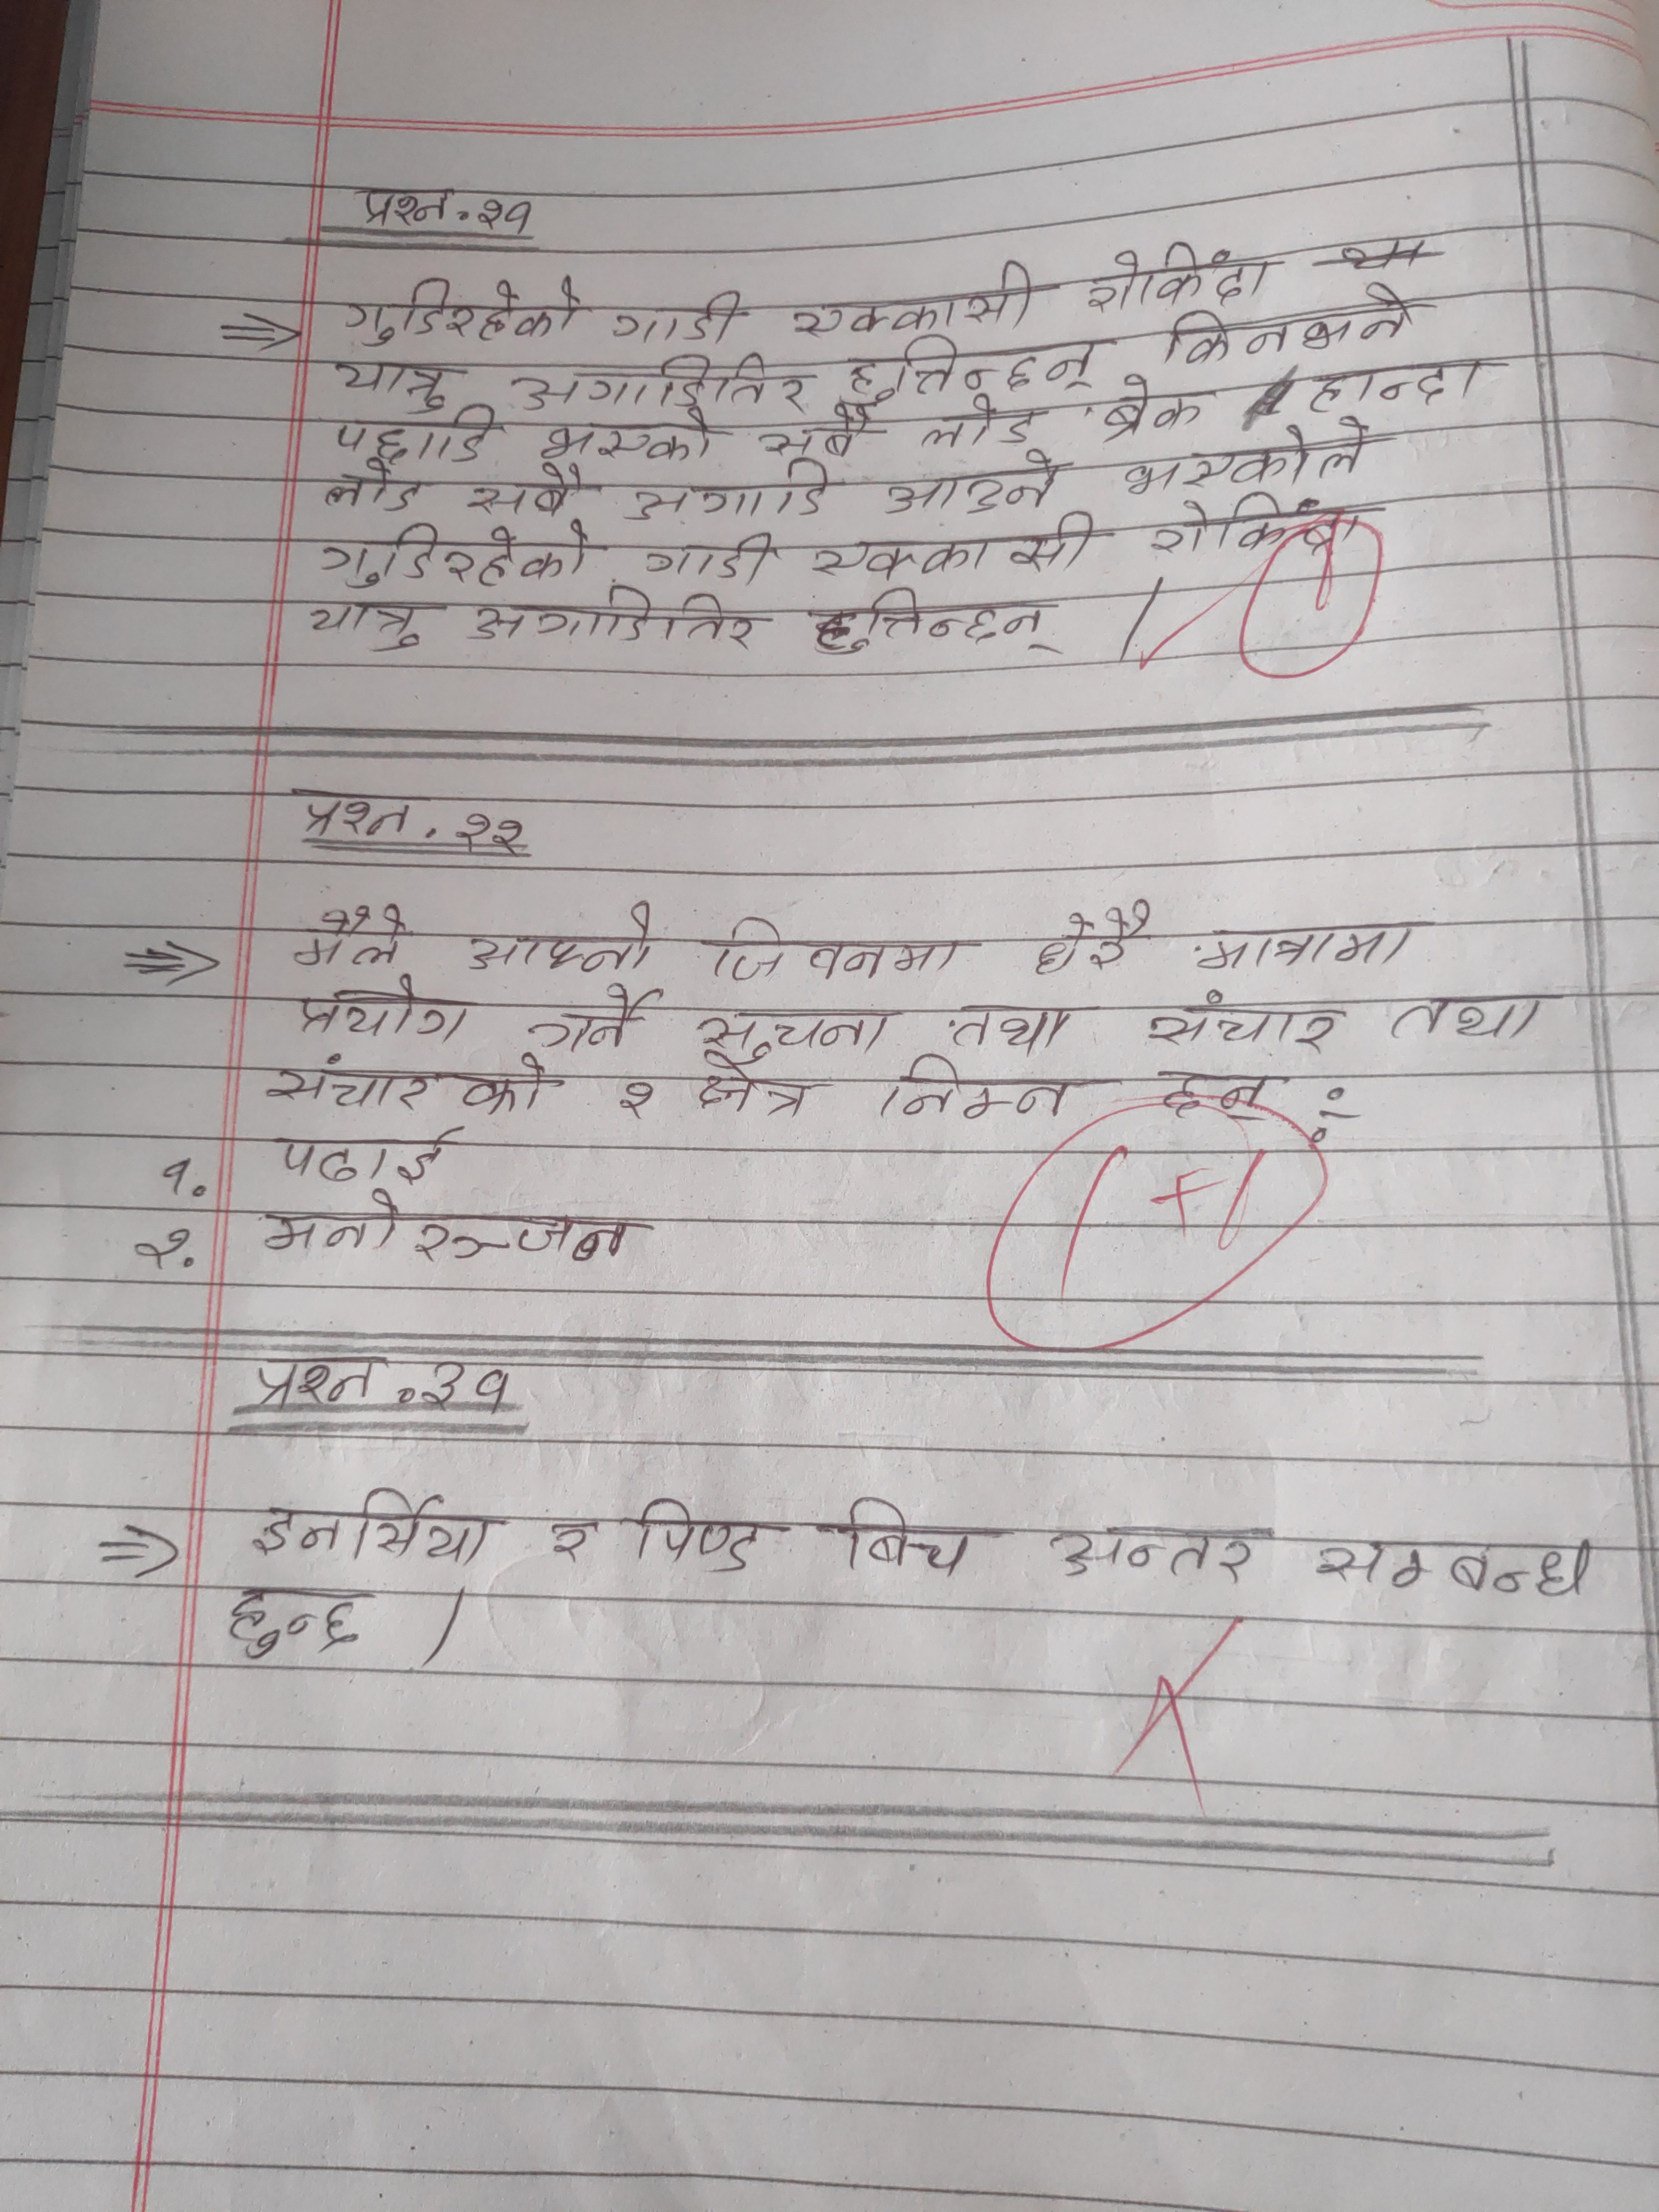text: (249, 1188, 650, 1271), (788, 256, 1060, 340), (1307, 1526, 1596, 1604), (244, 1482, 505, 1568), (706, 907, 981, 988), (467, 587, 770, 658), (263, 1049, 561, 1115), (312, 523, 592, 592), (1114, 428, 1368, 505), (805, 585, 1061, 660), (335, 272, 584, 347), (500, 354, 809, 413), (810, 523, 1098, 583), (1040, 1519, 1279, 1588), (843, 336, 1117, 395), (464, 900, 664, 979), (211, 1576, 387, 1665), (878, 1059, 1094, 1130), (826, 1491, 999, 1580), (622, 458, 842, 528), (1195, 911, 1438, 974), (261, 1116, 465, 1190), (1086, 235, 1279, 310), (1138, 989, 1345, 1059), (627, 1489, 781, 1578), (1140, 500, 1375, 556), (296, 977, 474, 1045), (884, 455, 1073, 517), (695, 1003, 896, 1062), (1307, 357, 1499, 416), (538, 409, 727, 467), (1026, 897, 1155, 979), (950, 988, 1089, 1061), (688, 1050, 826, 1123), (523, 979, 655, 1052), (1300, 282, 1431, 355), (282, 780, 436, 841), (606, 287, 758, 348), (301, 594, 453, 655), (638, 526, 786, 587), (1161, 300, 1288, 369), (239, 1348, 380, 1411), (1385, 991, 1551, 1043), (333, 413, 500, 463), (1093, 374, 1213, 444), (331, 355, 462, 418), (1159, 1061, 1286, 1123), (460, 465, 598, 523), (293, 904, 408, 970), (918, 395, 1046, 451), (416, 1357, 526, 1418), (755, 409, 878, 463), (322, 456, 425, 519), (350, 178, 462, 233), (532, 1510, 601, 1568), (453, 806, 526, 857), (471, 190, 542, 237), (613, 1075, 666, 1130)
